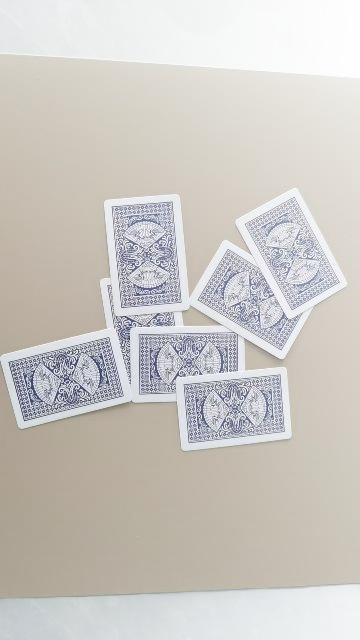card: (236, 189, 348, 319), (190, 241, 311, 359), (1, 330, 131, 429), (105, 195, 189, 315), (176, 368, 291, 451), (130, 326, 245, 402), (100, 278, 184, 379)
